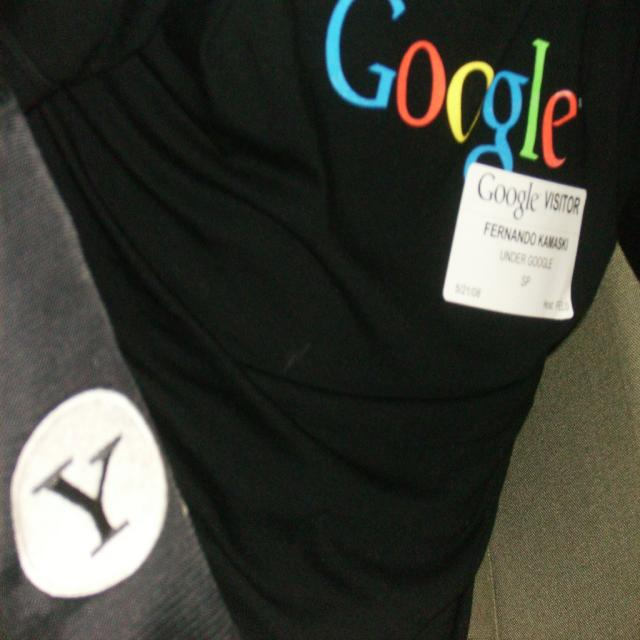google: (321, 2, 580, 184)
